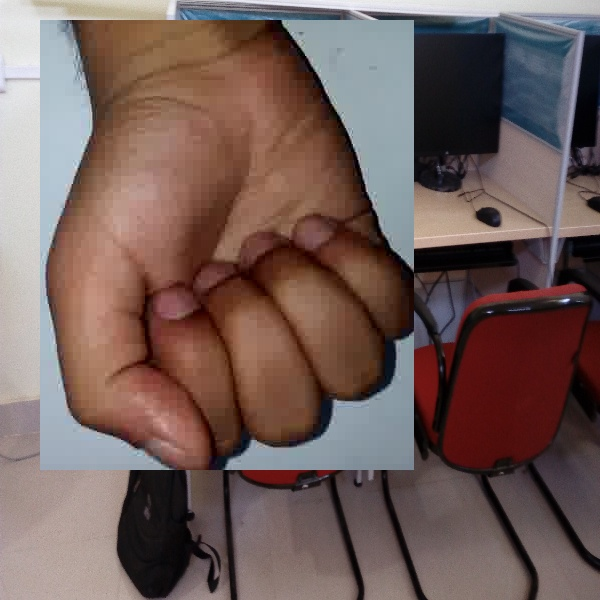A: (40, 20, 414, 470)
